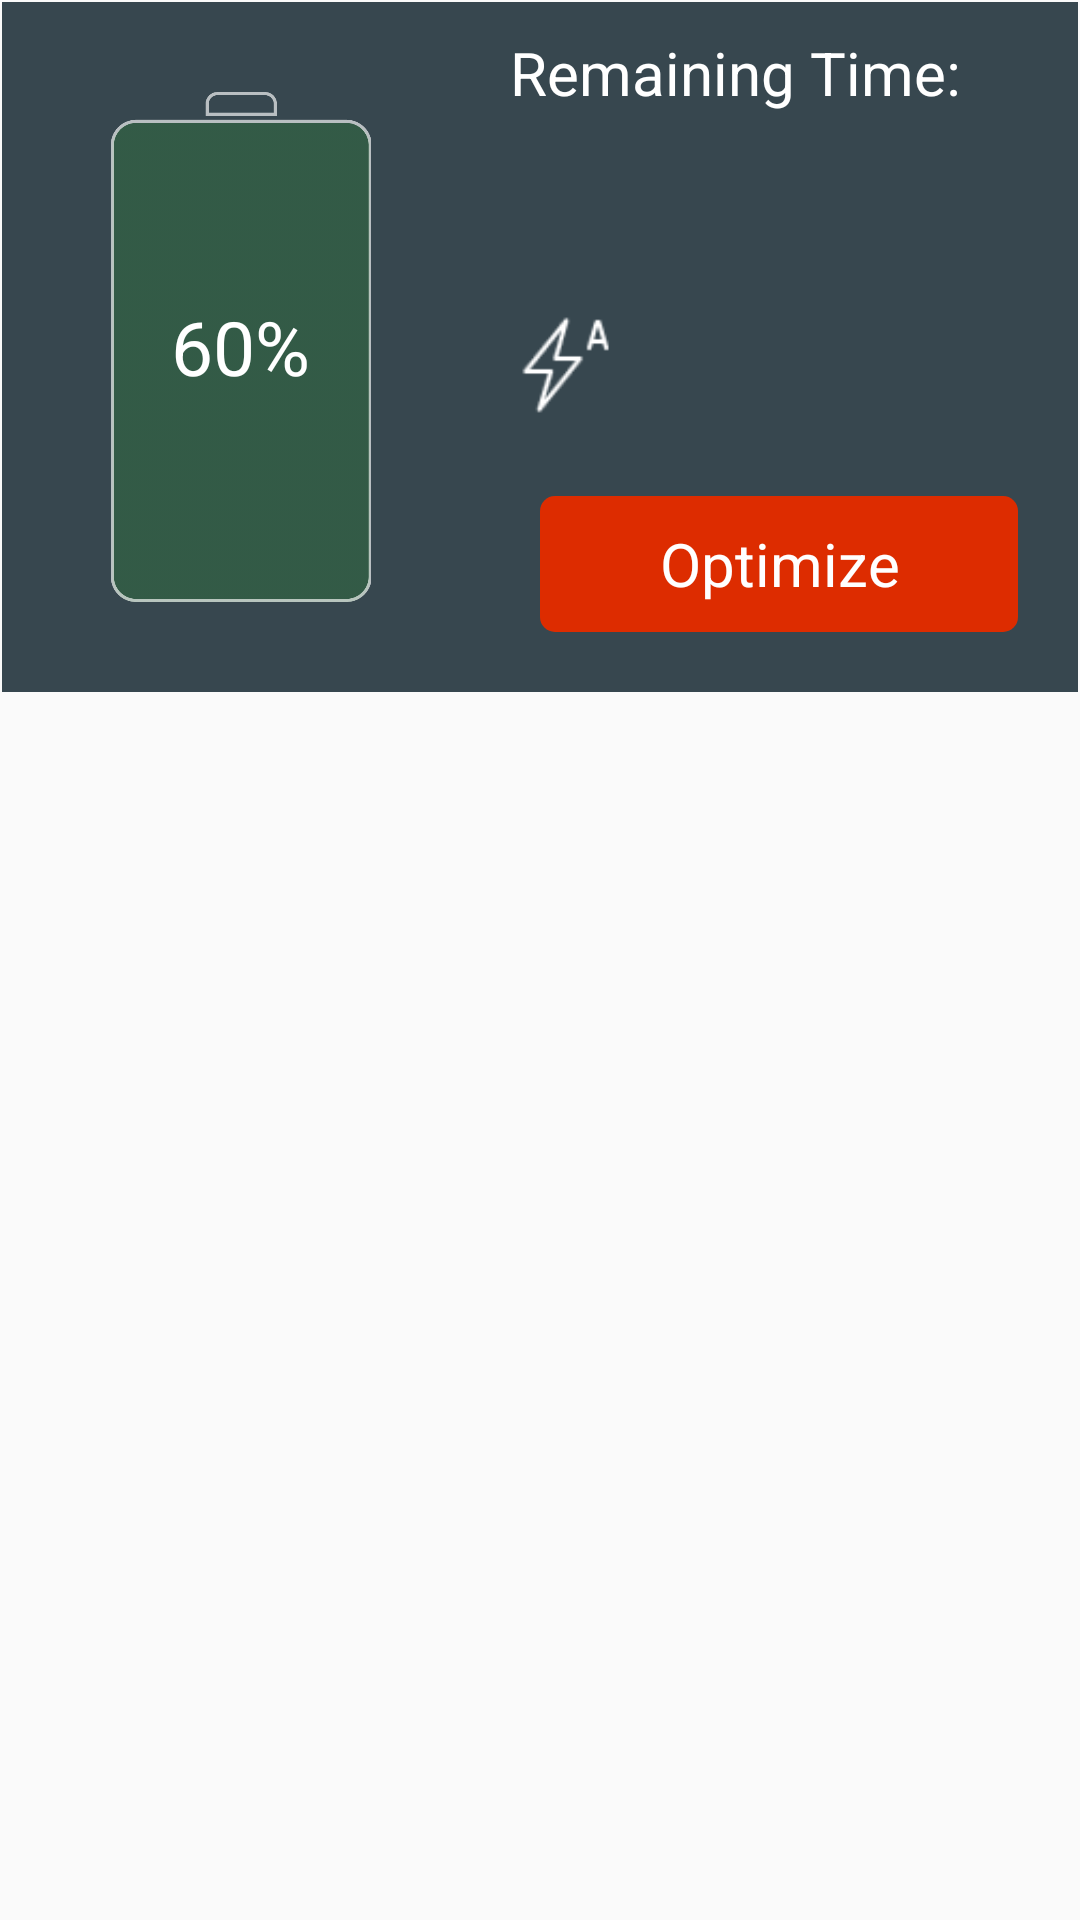

Screen size 1080px×1920px. Icon name, then its box in pixels as bbox(x1, y1, x2, y2):
charging: bbox(522, 317, 609, 413)
